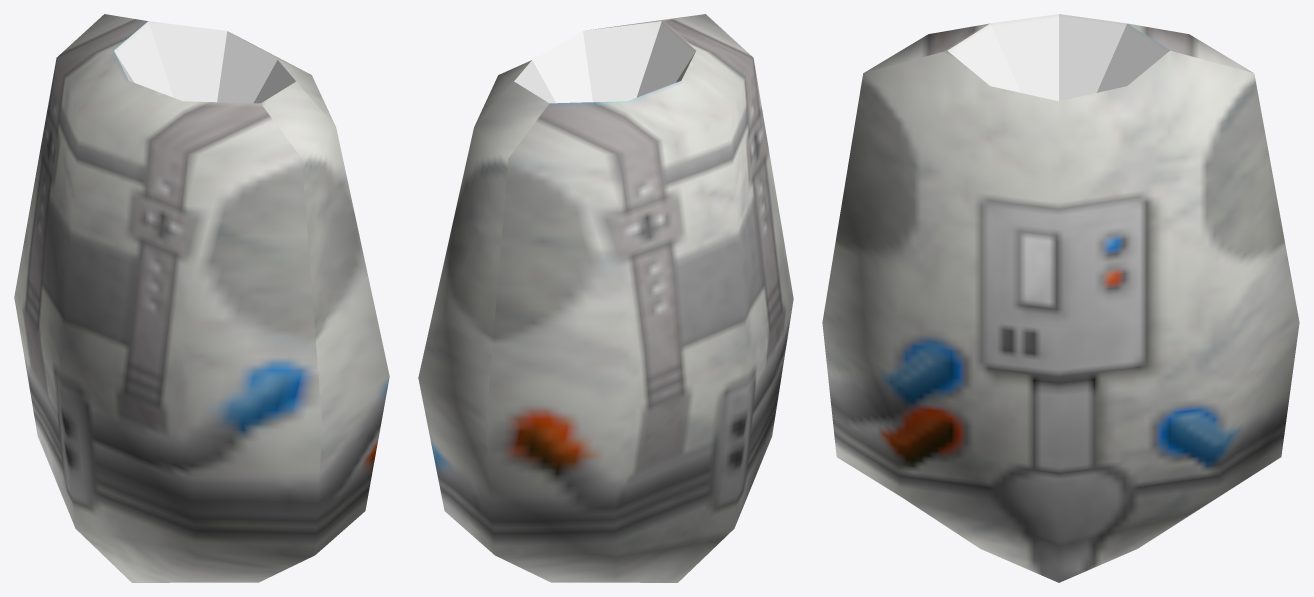
The model's file is human1v.gltf.
3 renders of one model, left to right at view 1: azimuth 30°, elevation 25°; view 2: azimuth 150°, elevation 25°; view 3: azimuth 270°, elevation 25°, orthographic.
Visible parts, largest first — view 1: human1v; view 2: human1v; view 3: human1v.
Part boxes in pixels (bbox=[...]): human1v: bbox=[14, 14, 389, 582]; human1v: bbox=[418, 14, 793, 582]; human1v: bbox=[822, 14, 1299, 582].
Size of the model in its own units: 2 by 3.39 by 2.94.
